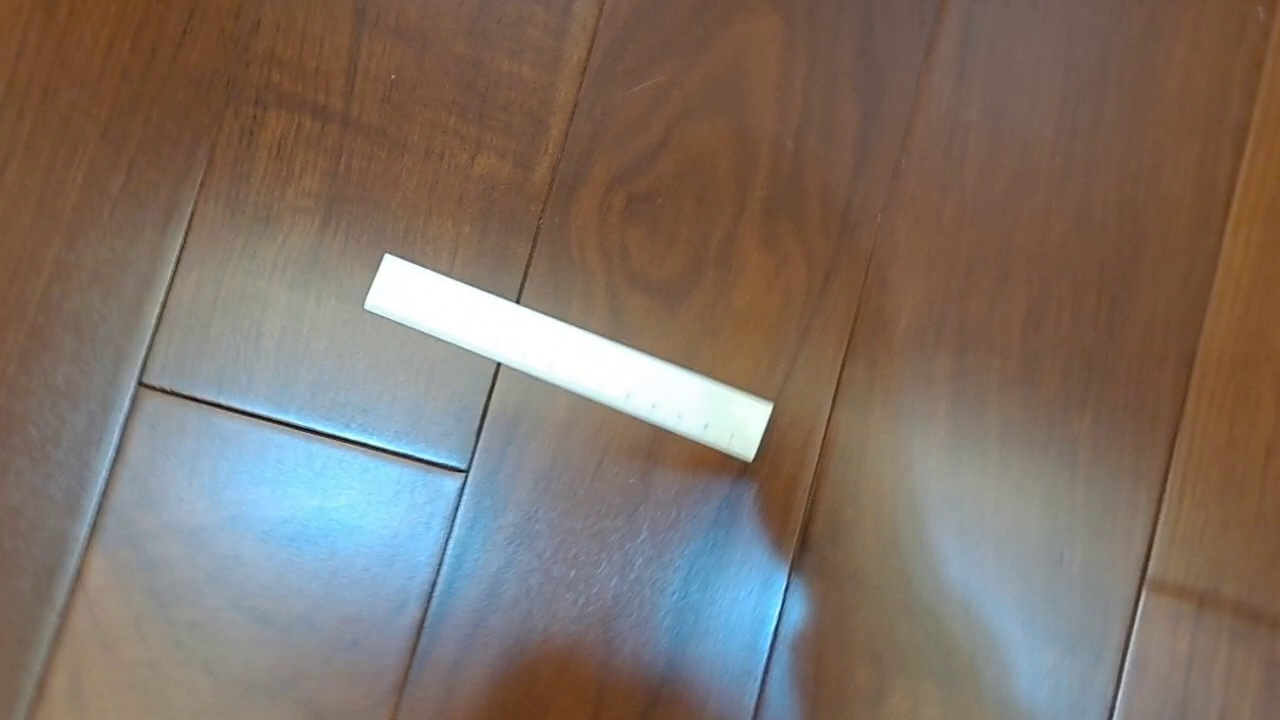ruler: (362, 251, 775, 463)
